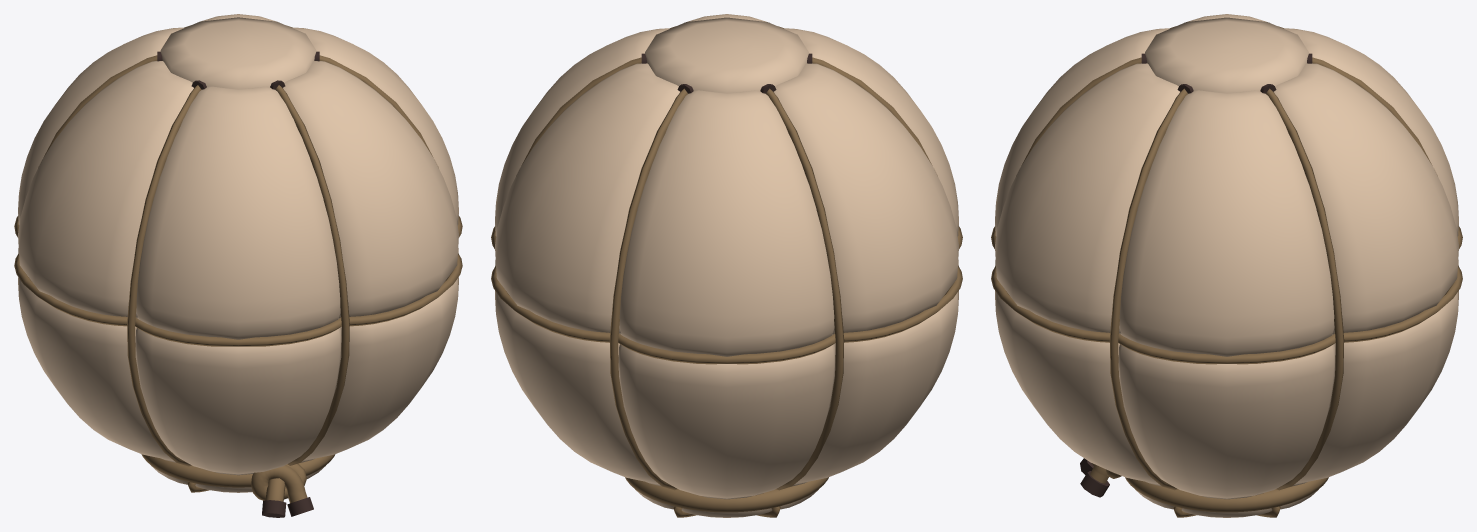
The model's file is WeakPoint_Balloon.fbx.
3 views of the same model, side by side, from view 1: azimuth 30°, elevation 25°; view 2: azimuth 150°, elevation 25°; view 3: azimuth 270°, elevation 25° (orthographic). The views are drawn at different scales.
Visible parts, largest first — view 1: Balloon; view 2: Balloon; view 3: Balloon.
Boxes of the visible parts, left/top/right/bottom form: Balloon: left=14, top=14, right=462, bottom=517; Balloon: left=491, top=14, right=962, bottom=517; Balloon: left=991, top=14, right=1462, bottom=517.
Bounding box in the file's own units: 20.32 × 20.6 × 19.35.
